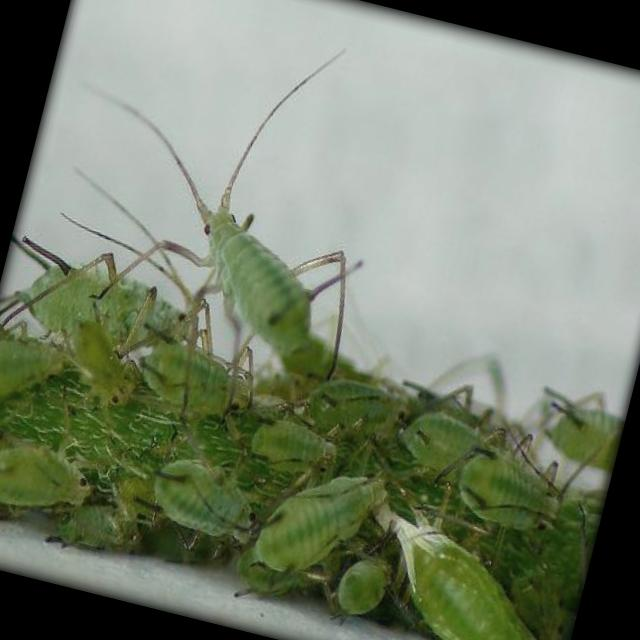Aphid: (70, 87, 410, 417), (240, 416, 413, 624), (412, 413, 600, 571), (125, 320, 287, 448), (126, 429, 282, 559), (0, 403, 118, 540)
